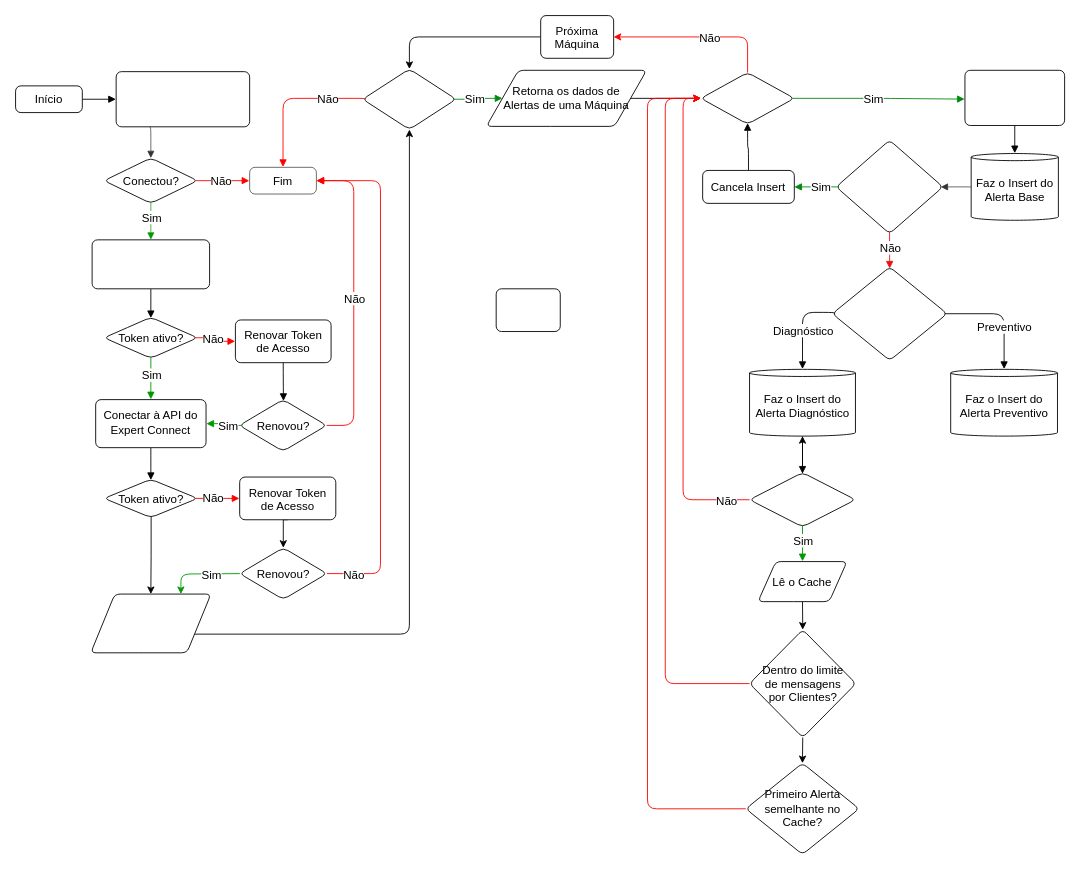
This 1080x870 diagram has some shape labels left out. The box of each missing label's shape, as (x1, y1, x2, y2) in pixels:
Ainda há Alertas?: (700, 72, 794, 124)
Ainda há Máquinas?: (362, 68, 456, 129)
Alerta Diagnóstico ou Preventivo?: (831, 266, 947, 360)
Alerta Vermelho?: (749, 472, 855, 527)
Conectar ao Banco de Dados do projeto: (115, 71, 250, 127)
Conectar à API do Operation Center: (91, 239, 210, 289)
ID do Alerta já no Banco de Dados?: (835, 139, 943, 234)
Próximo Alerta: (495, 288, 560, 332)
Retornar lista de Máquinas: (90, 593, 211, 653)
Trata um dado JSON de Alerta: (964, 69, 1065, 125)
